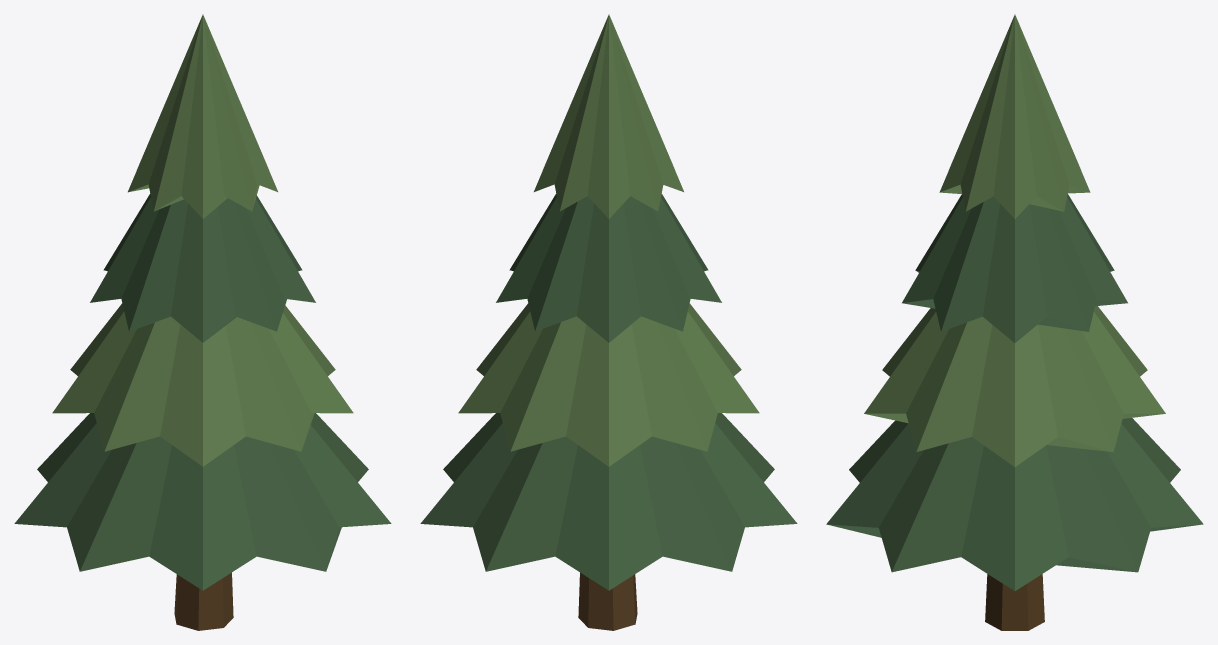
The model's file is SM_Fir_01.fbx.
The picture shows the model from 3 angles, left to right: view 1: azimuth 30°, elevation 25°; view 2: azimuth 150°, elevation 25°; view 3: azimuth 270°, elevation 25°; orthographic projection.
Visible parts, largest first — view 1: SM_Fir_01; view 2: SM_Fir_01; view 3: SM_Fir_01.
Part boxes in pixels (x1=…): SM_Fir_01: x1=14, y1=14, x2=391, y2=630; SM_Fir_01: x1=420, y1=14, x2=797, y2=630; SM_Fir_01: x1=826, y1=14, x2=1203, y2=630.
Bounding box in the file's own units: 3.88 × 3.94 × 6.96.
